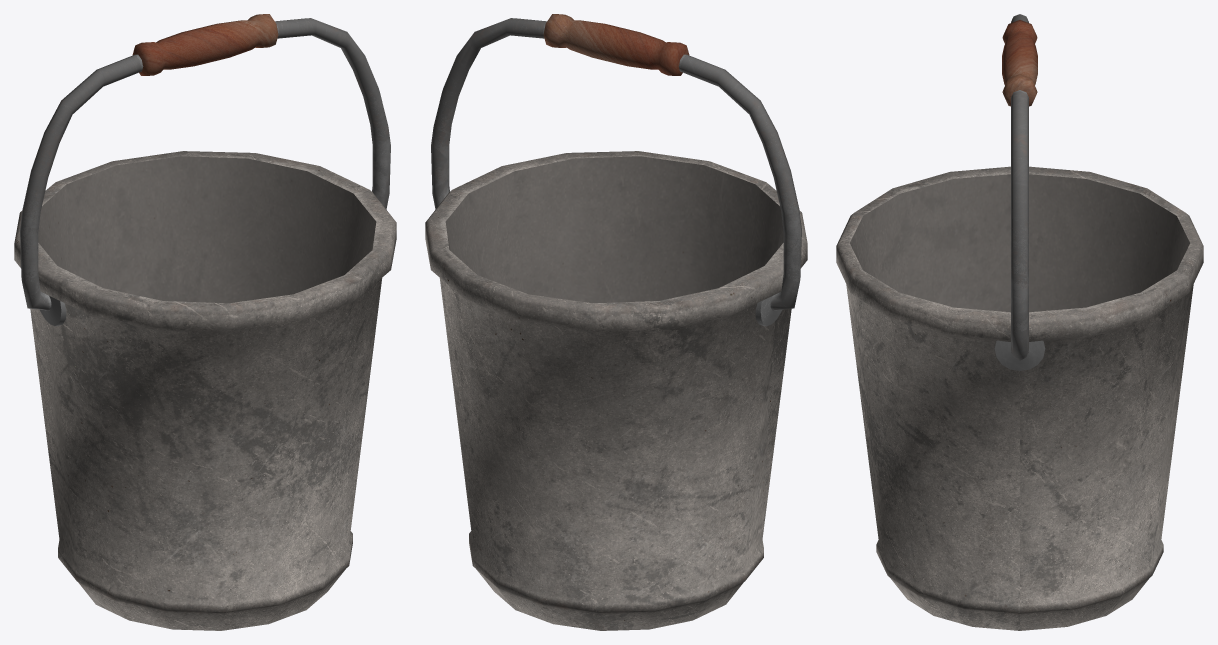
Rendered from bucket.fbx.
3 renders of one model, left to right at view 1: azimuth 30°, elevation 25°; view 2: azimuth 150°, elevation 25°; view 3: azimuth 270°, elevation 25°, orthographic. The views are drawn at different scales.
Visible parts, largest first — view 1: bucket, handle; view 2: bucket, handle; view 3: bucket, handle.
Part boxes in pixels (x1,y1,x2,y2): bucket: (14, 151, 396, 630); handle: (20, 14, 390, 310); bucket: (425, 151, 807, 630); handle: (431, 14, 801, 310); bucket: (836, 166, 1203, 630); handle: (1002, 14, 1037, 360).
Bounding box in the file's own units: 215 × 306 × 192.
